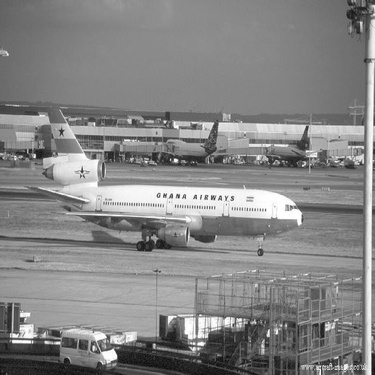airplane: (5, 94, 314, 260), (133, 113, 226, 166), (229, 127, 319, 168)
